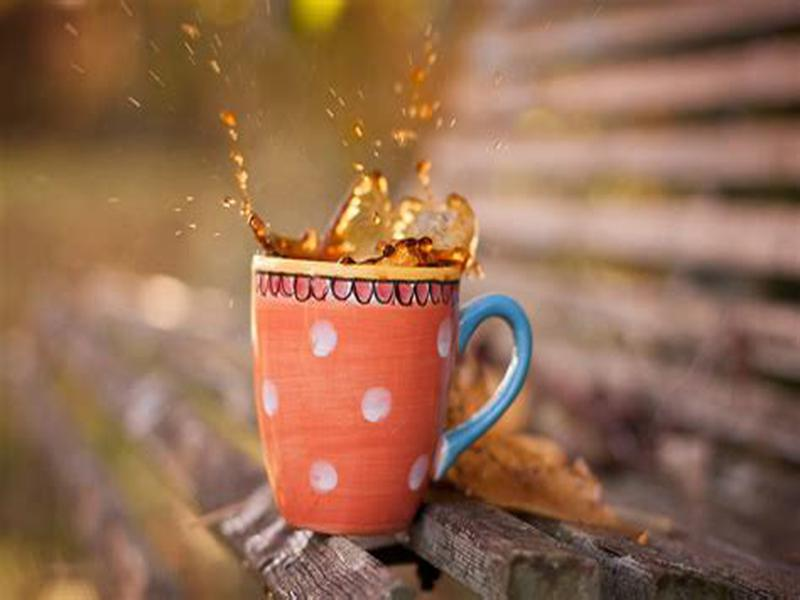cup: (244, 241, 537, 545)
